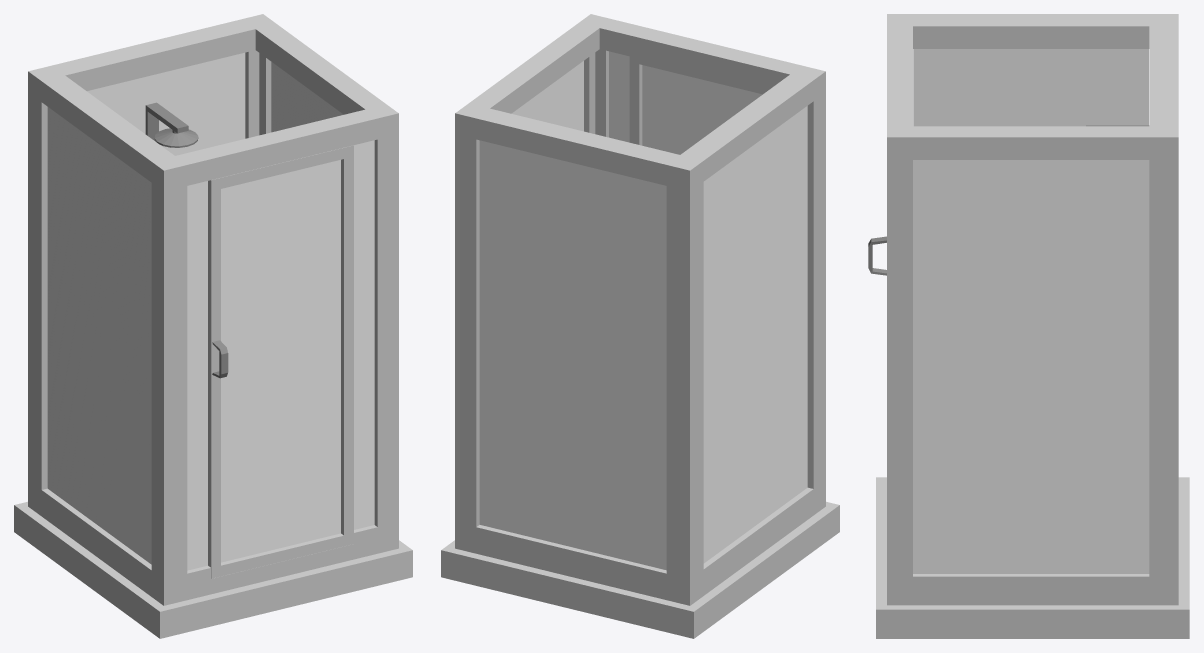
Rendered from Bathroom Shower.glb.
3 renders of one model, left to right at view 1: azimuth 30°, elevation 25°; view 2: azimuth 150°, elevation 25°; view 3: azimuth 270°, elevation 25°, orthographic. The views are drawn at different scales.
Parts seen in each view (by area): view 1: Shower; view 2: Shower; view 3: Shower.
Boxes of the visible parts, bbox=[...] form: Shower: bbox=[14, 14, 412, 638]; Shower: bbox=[441, 14, 839, 638]; Shower: bbox=[868, 14, 1189, 638].
Bounding box in the file's own units: 1.32 × 2.31 × 1.35.
2 materials, 1 textured.
